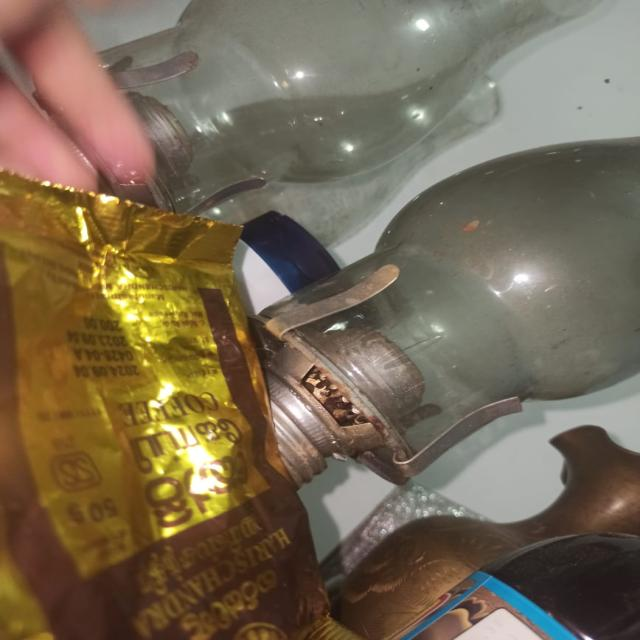Harischandra Coffee: (0, 164, 540, 640)
